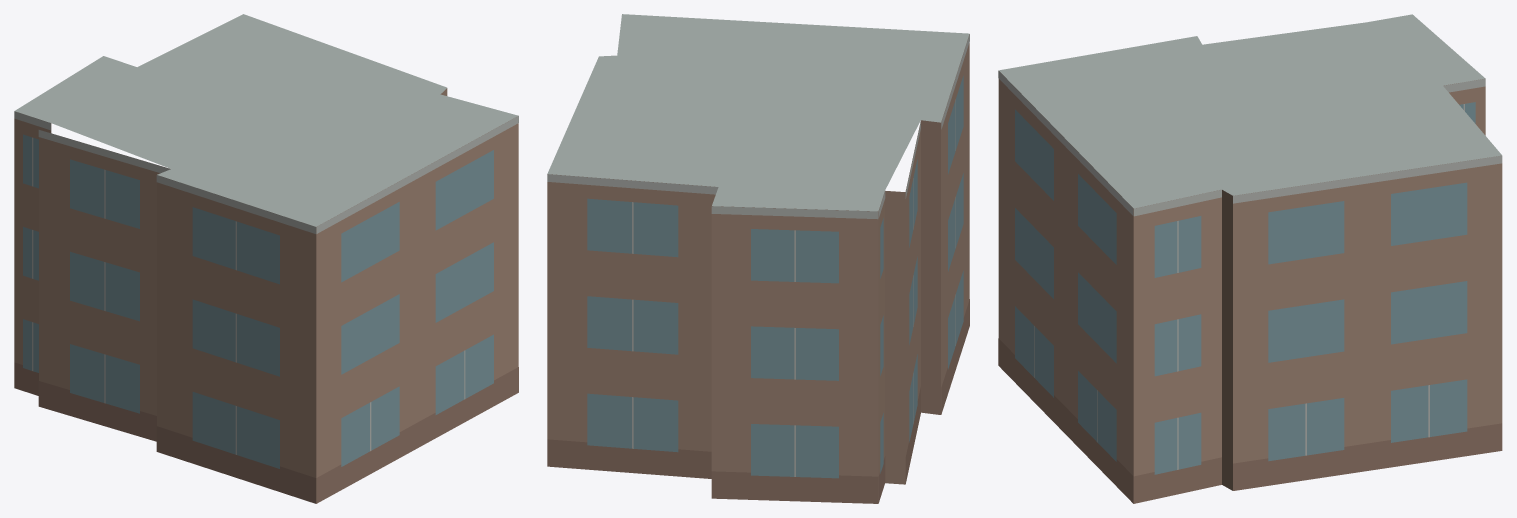
Rendered from survey-upis-32704188.glb.
3 renders of one model, left to right at view 1: azimuth 30°, elevation 25°; view 2: azimuth 150°, elevation 25°; view 3: azimuth 270°, elevation 25°, orthographic. The views are drawn at different scales.
Visible parts, largest first — view 1: survey-upis-32704188.tmp; view 2: survey-upis-32704188.tmp; view 3: survey-upis-32704188.tmp.
Boxes of the visible parts, <box> form: survey-upis-32704188.tmp: <box>14,14,518,503</box>; survey-upis-32704188.tmp: <box>547,14,969,503</box>; survey-upis-32704188.tmp: <box>998,14,1502,503</box>.
Size of the model in its own units: 12.95 by 9.15 by 14.16.
